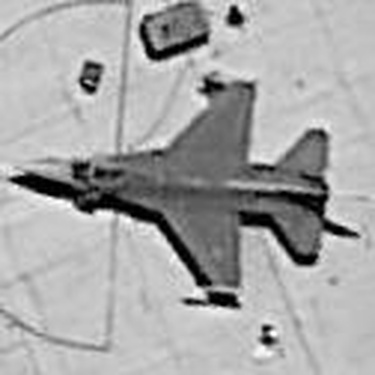airplane: (8, 62, 353, 323)
